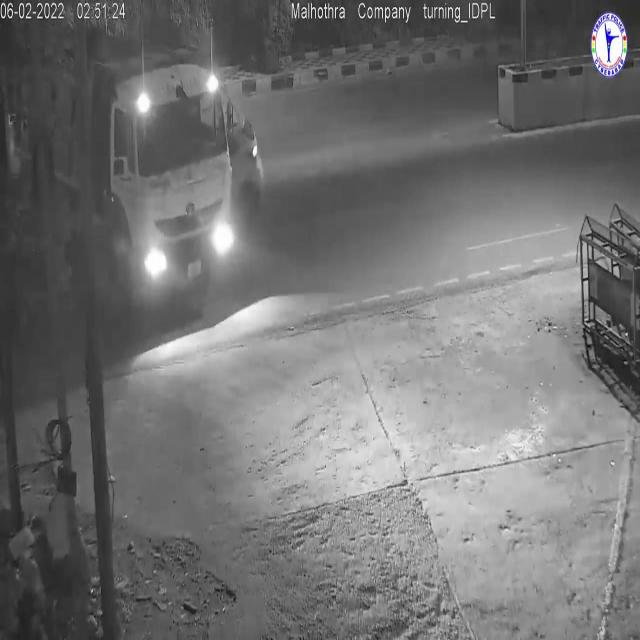accident: (4, 31, 270, 333)
